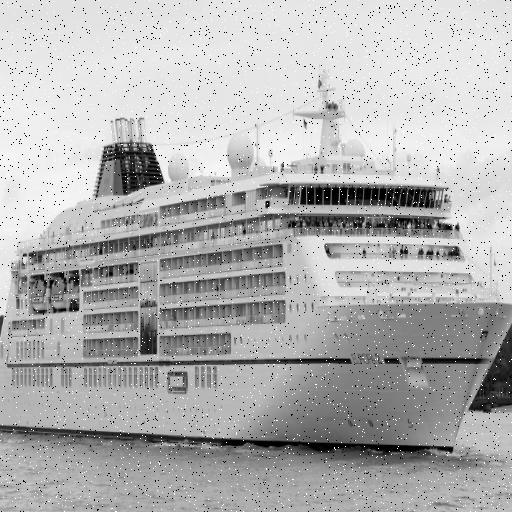cruises: (1, 69, 512, 464)
